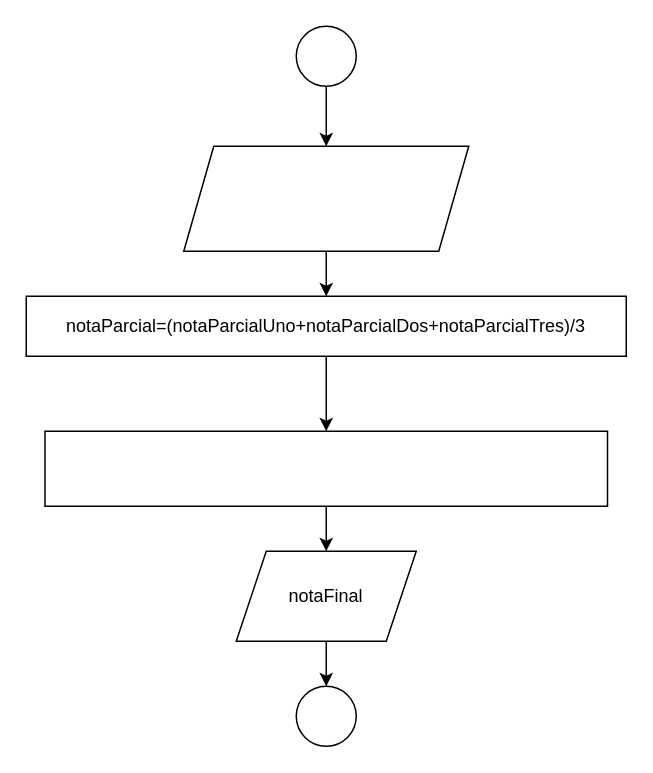
Some shapes in this 653 by 773 pixel diagram are drawn without their labels. The centre of each missing label's shape, as x and y in pixels:
"notaFinal=((notaParcial*0.55)+(notaExamen*0.3)+(notaTrabajo*0.15))" goes at point (326, 468).
"notaParcialUno notaParcialDos notaParciaTres notaExamen notaTrabajo" goes at point (325, 198).
